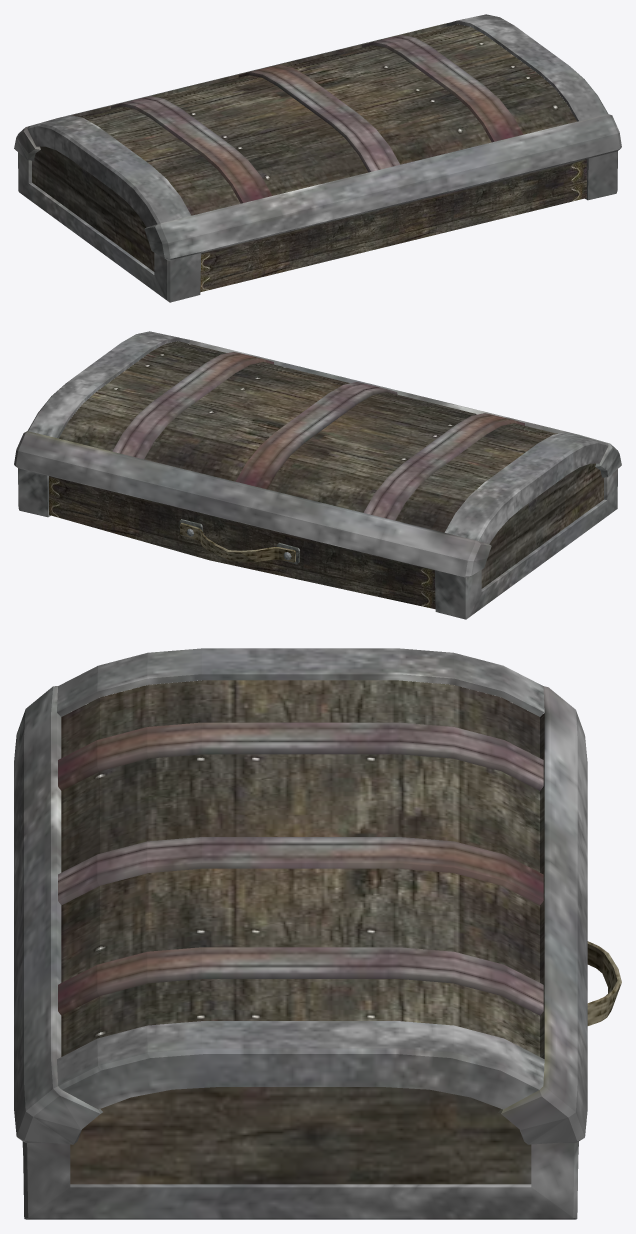
File: TW2_9_ADDONS_11_1_1-transformed.glb
The picture shows the model from 3 angles, top to bottom: view 1: azimuth 30°, elevation 25°; view 2: azimuth 150°, elevation 25°; view 3: azimuth 270°, elevation 25°; orthographic projection. The views are drawn at different scales.
Parts seen in each view (by area): view 1: default; view 2: default; view 3: default.
Boxes of the visible parts, box(x1,y1,x2,y2) form: default: box(14, 14, 621, 302); default: box(14, 331, 621, 619); default: box(14, 648, 621, 1219).
Bounding box in the file's own units: 1.21 × 0.2484 × 0.7597.
Materials: 2 (2 with a texture image).
